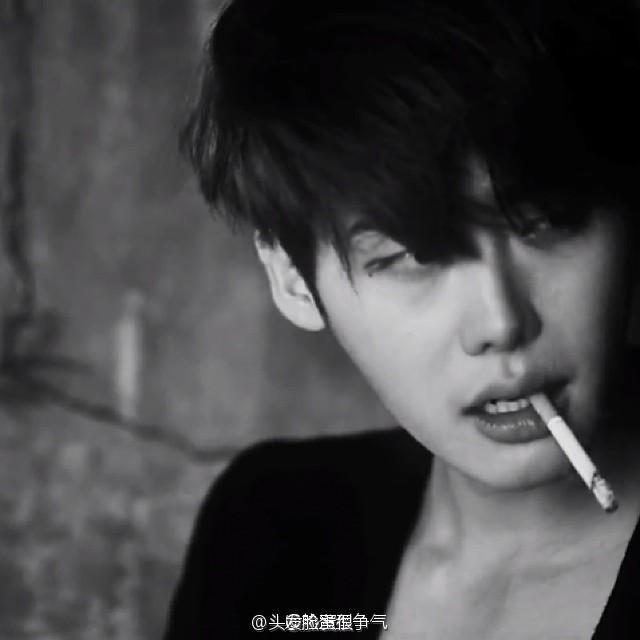rokok: (526, 389, 622, 515)
